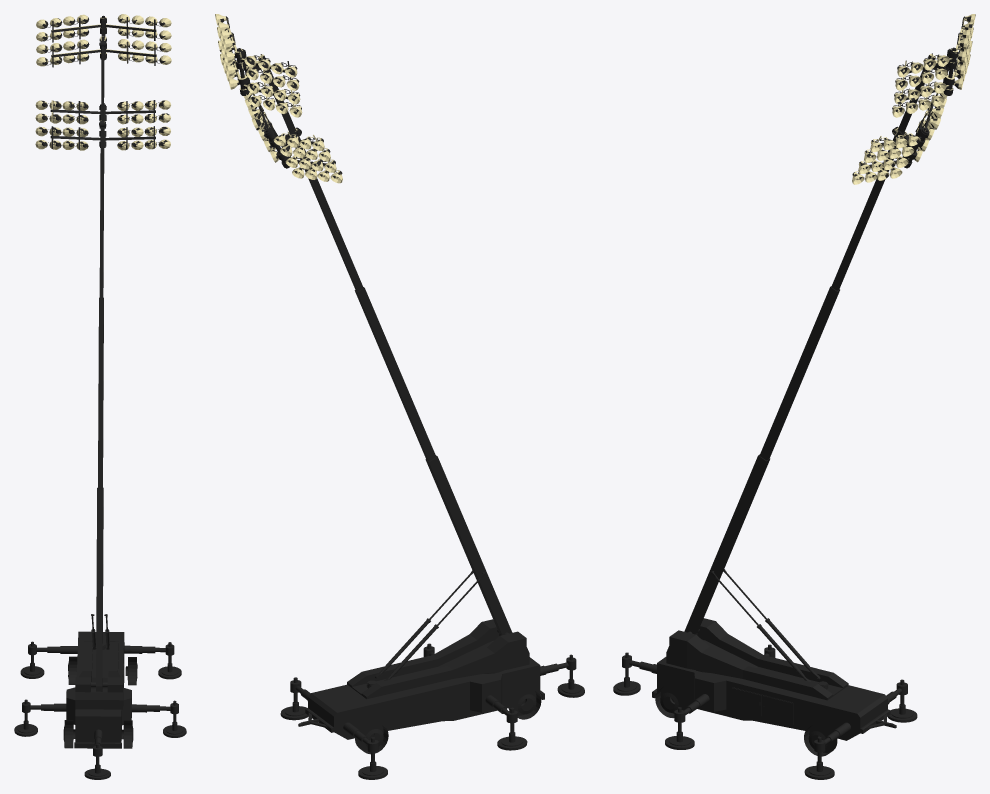
File: light_tower_8.obj
3 renders of one model, left to right at view 1: azimuth 30°, elevation 25°; view 2: azimuth 150°, elevation 25°; view 3: azimuth 270°, elevation 25°, orthographic. The views are drawn at different scales.
Visible parts, largest first — view 1: light_tower.008; view 2: light_tower.008; view 3: light_tower.008.
Boxes of the visible parts, left/top/right/bottom form: light_tower.008: left=14, top=14, right=186, bottom=779; light_tower.008: left=215, top=14, right=584, bottom=779; light_tower.008: left=613, top=14, right=975, bottom=779.
Size of the model in its own units: 1.95 by 5.53 by 2.49.
Materials: 1 (1 with a texture image).
